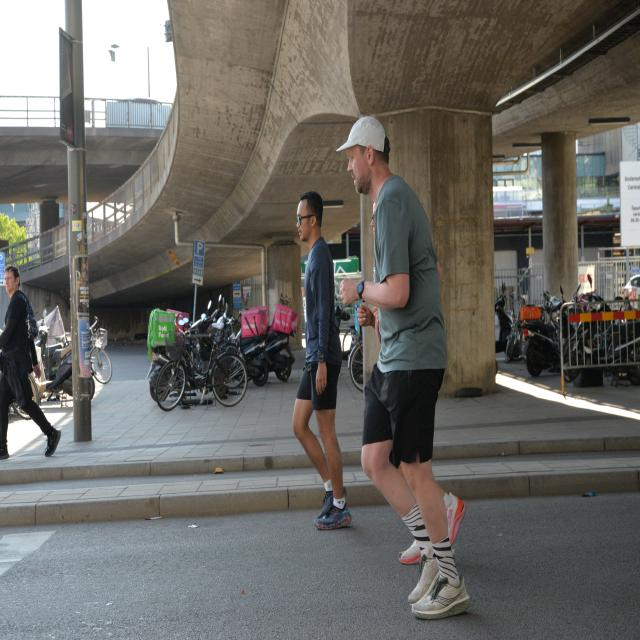runner-detect: (331, 108, 493, 626), (283, 186, 356, 533)
